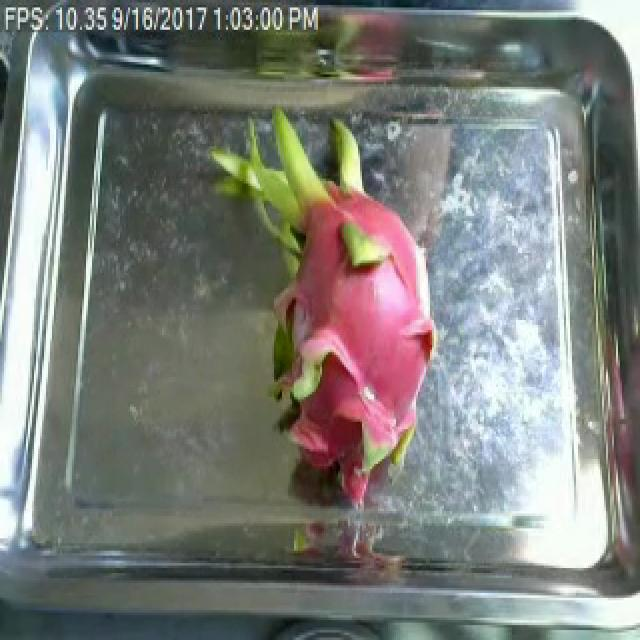fruit: (198, 99, 448, 511)
